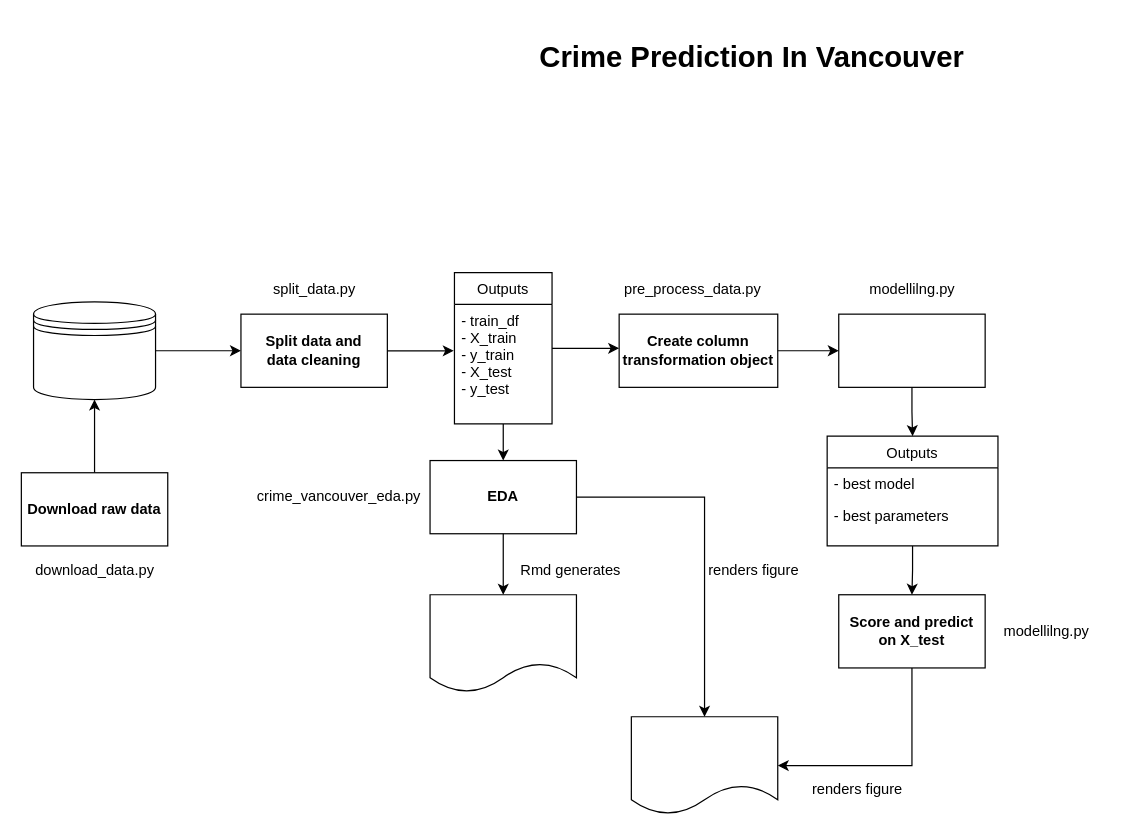
Some shapes in this 1122 by 836 pixel diagram are drawn without their labels. The centre of each missing label's shape, as x and y in pixels:
"EDA Report" goes at pixel 502 643.
"Final Report" goes at pixel 704 765.
"Raw Data" goes at pixel 94 350.
"Training / hyperparameter tunning" goes at pixel 911 350.
